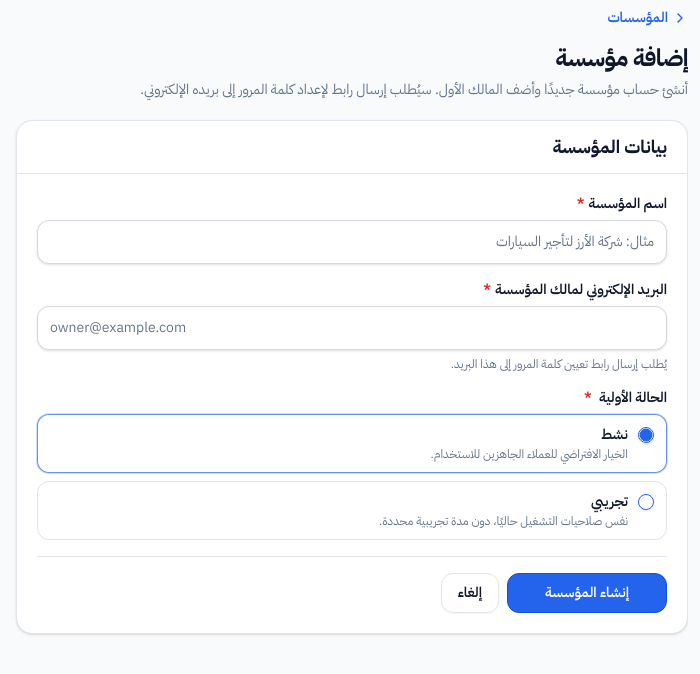
Test: PlatformCreateOrganizationPage › requires an organization name and owner email
Click the button "إنشاء المؤسسة": [587, 593] box 507,573 -> 667,613
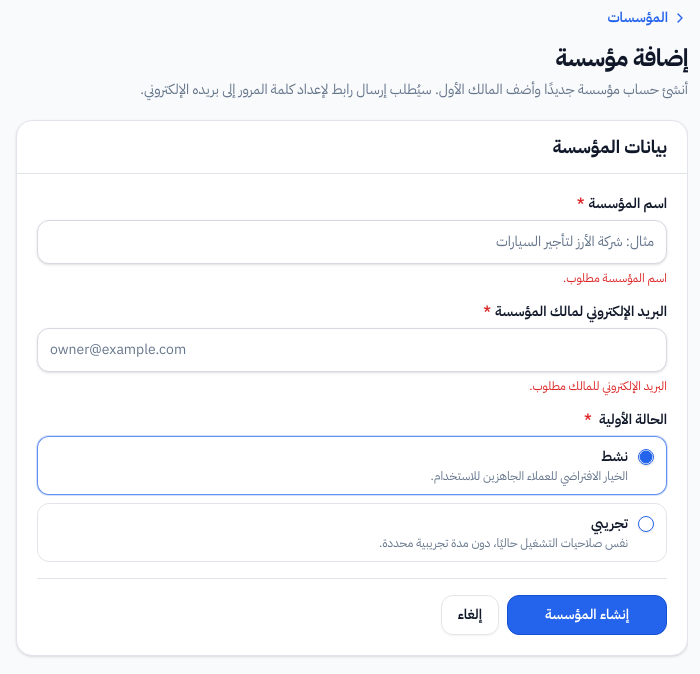
Expected: the text "اسم المؤسسة مطلوب." is shown, 563,269 -> 667,287
Expected: the text "البريد الإلكتروني للمالك مطلوب." is shown, 529,377 -> 667,395
